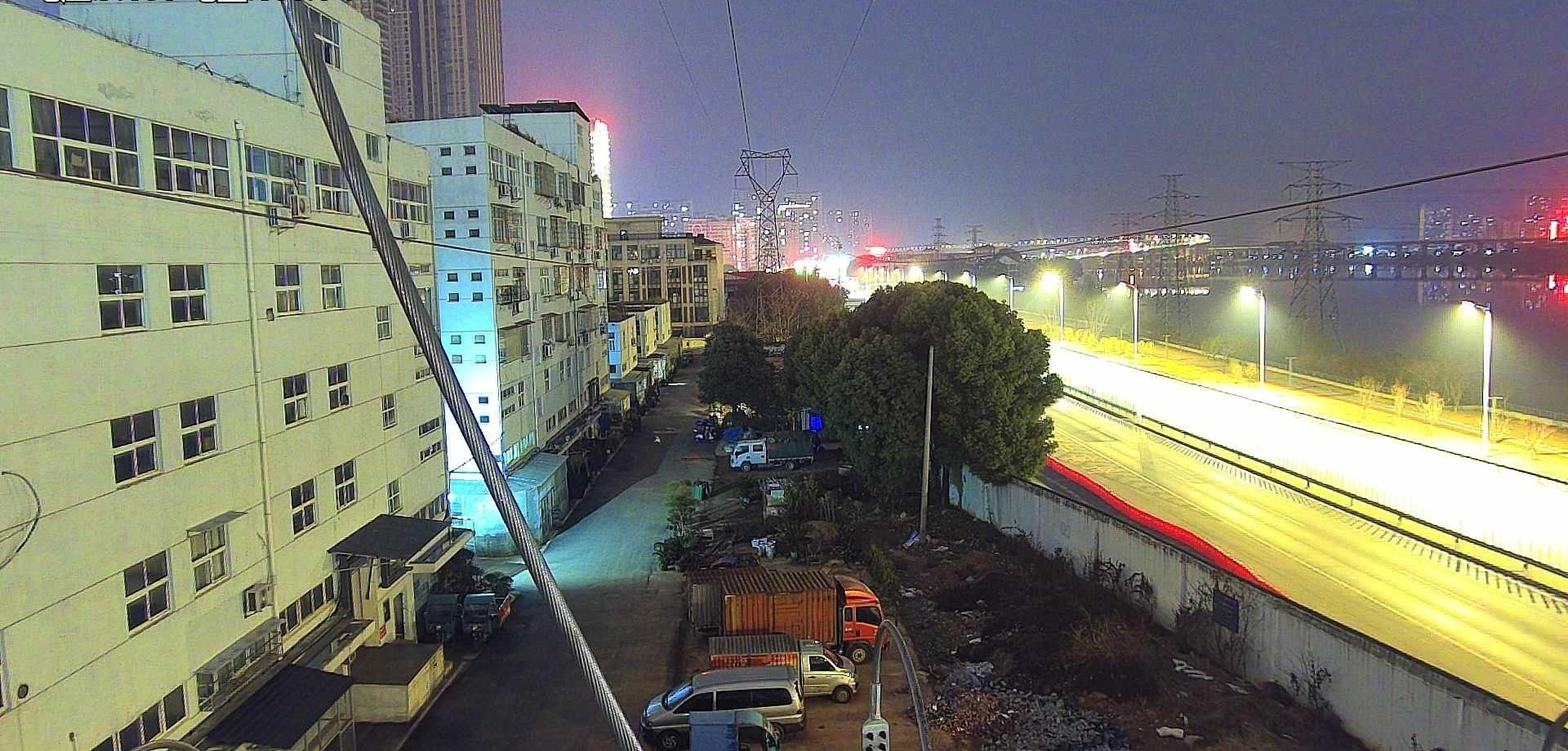过爆灯光: (589, 118, 613, 217), (791, 253, 850, 278), (826, 277, 870, 303), (1129, 238, 1148, 252), (866, 246, 887, 256), (1549, 220, 1557, 240), (1548, 273, 1556, 289), (1361, 246, 1374, 255), (1365, 264, 1372, 274), (1563, 284, 1568, 292)
